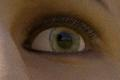eye: (51, 28, 80, 53)
